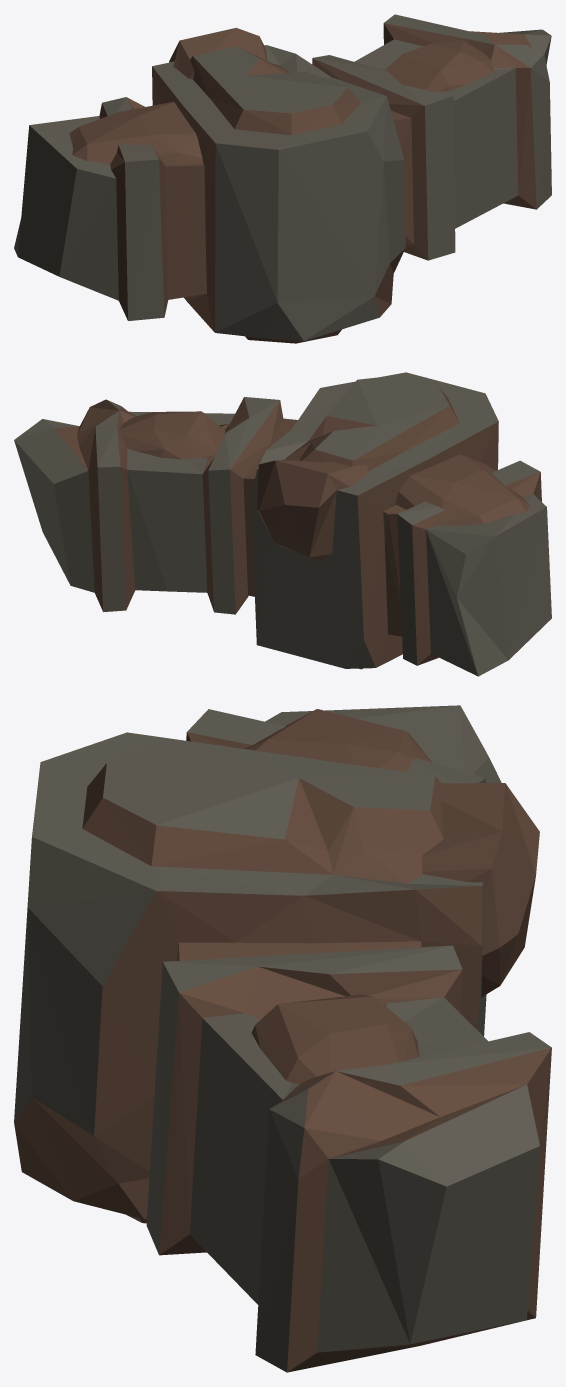
Rendered from synty-prop-pillar-arch-broken-moss-02.gltf.
3 renders of one model, top to bottom at view 1: azimuth 30°, elevation 25°; view 2: azimuth 150°, elevation 25°; view 3: azimuth 270°, elevation 25°, orthographic. The views are drawn at different scales.
Visible parts, largest first — view 1: SM_Prop_Pillar_Arch_Broken_Moss_02; view 2: SM_Prop_Pillar_Arch_Broken_Moss_02; view 3: SM_Prop_Pillar_Arch_Broken_Moss_02.
Boxes of the visible parts, x1,y1,x2,y2 form: SM_Prop_Pillar_Arch_Broken_Moss_02: (14, 14, 551, 343); SM_Prop_Pillar_Arch_Broken_Moss_02: (14, 372, 551, 676); SM_Prop_Pillar_Arch_Broken_Moss_02: (14, 705, 551, 1372).
Size of the model in its own units: 1.41 by 0.6014 by 0.7139.
1 material, 1 textured.
